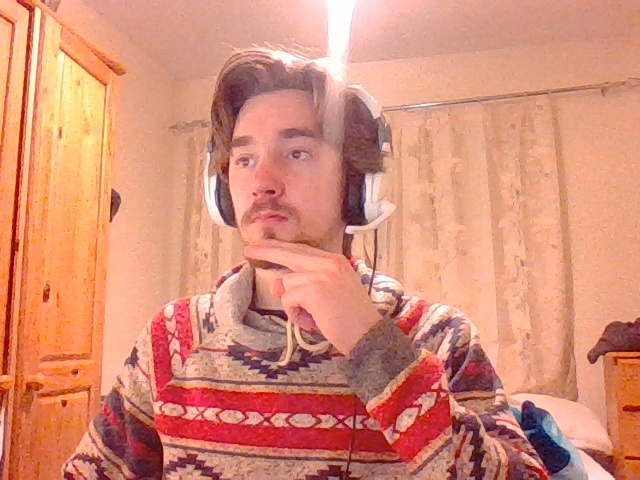afternoon: (236, 235, 383, 334)
